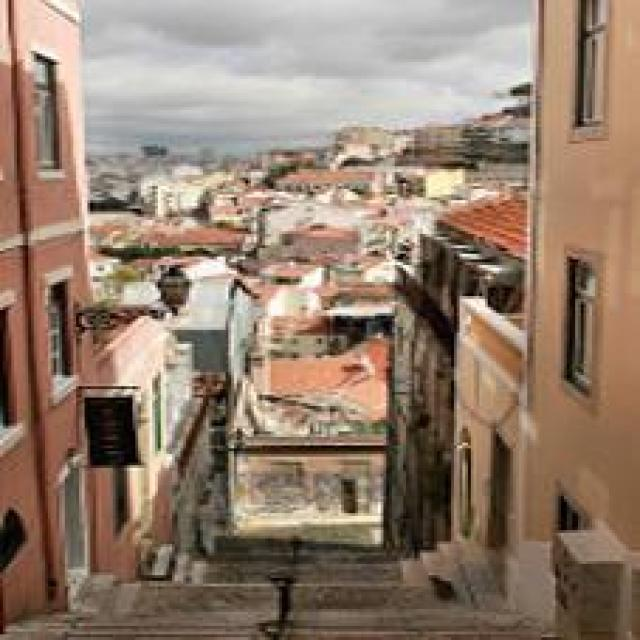downstair: (114, 472, 430, 616)
